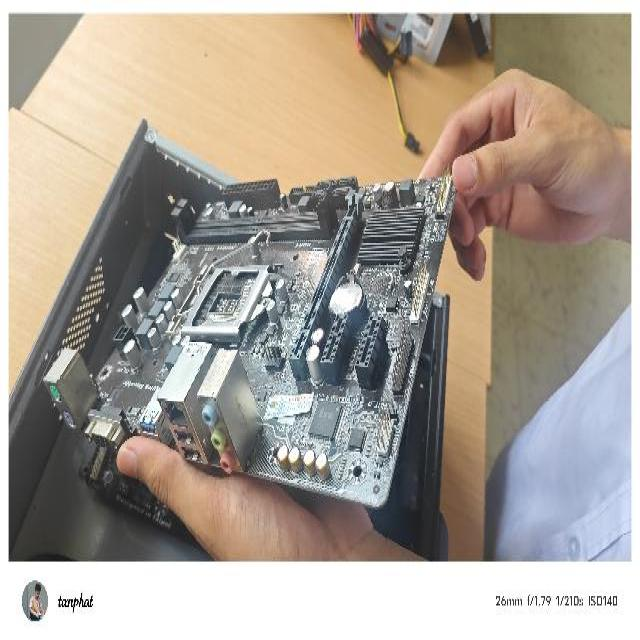Mainboard: (42, 152, 457, 516)
